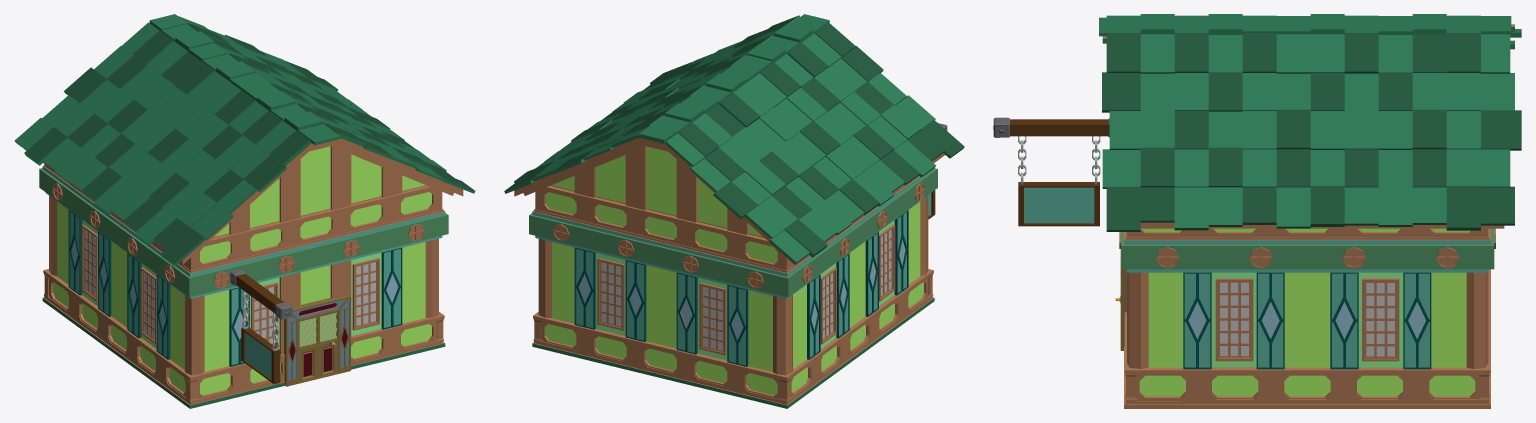
The model's file is SM_Hous_24_A.gltf.
The picture shows the model from 3 angles, left to right: view 1: azimuth 30°, elevation 25°; view 2: azimuth 150°, elevation 25°; view 3: azimuth 270°, elevation 25°; orthographic projection. The views are drawn at different scales.
Parts seen in each view (by area): view 1: SM_Hous_24_A; view 2: SM_Hous_24_A; view 3: SM_Hous_24_A.
Boxes of the visible parts, left/top/right/bottom form: SM_Hous_24_A: left=14, top=14, right=475, bottom=408; SM_Hous_24_A: left=504, top=14, right=964, bottom=408; SM_Hous_24_A: left=993, top=14, right=1521, bottom=408.
Bounding box in the file's own units: 10 × 7.88 × 12.18.
